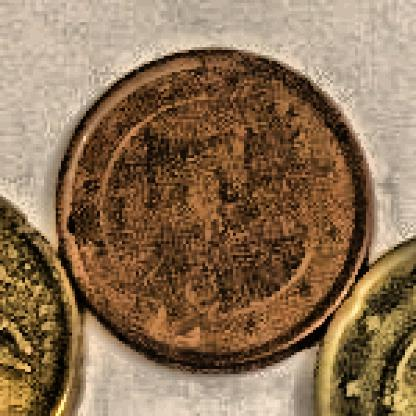coin: (58, 43, 375, 375)
